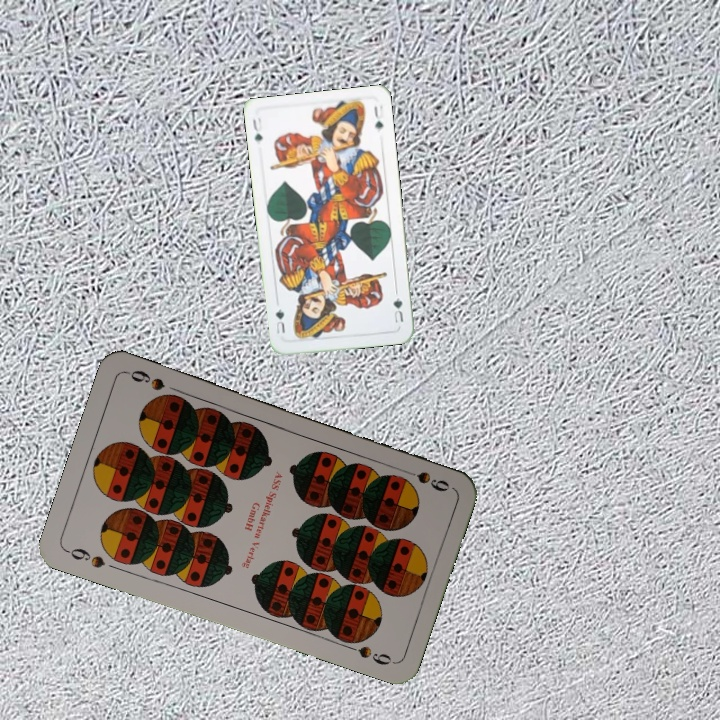GU: (389, 293, 406, 325), (249, 113, 265, 144)
S9: (396, 464, 452, 494), (62, 544, 108, 571)
